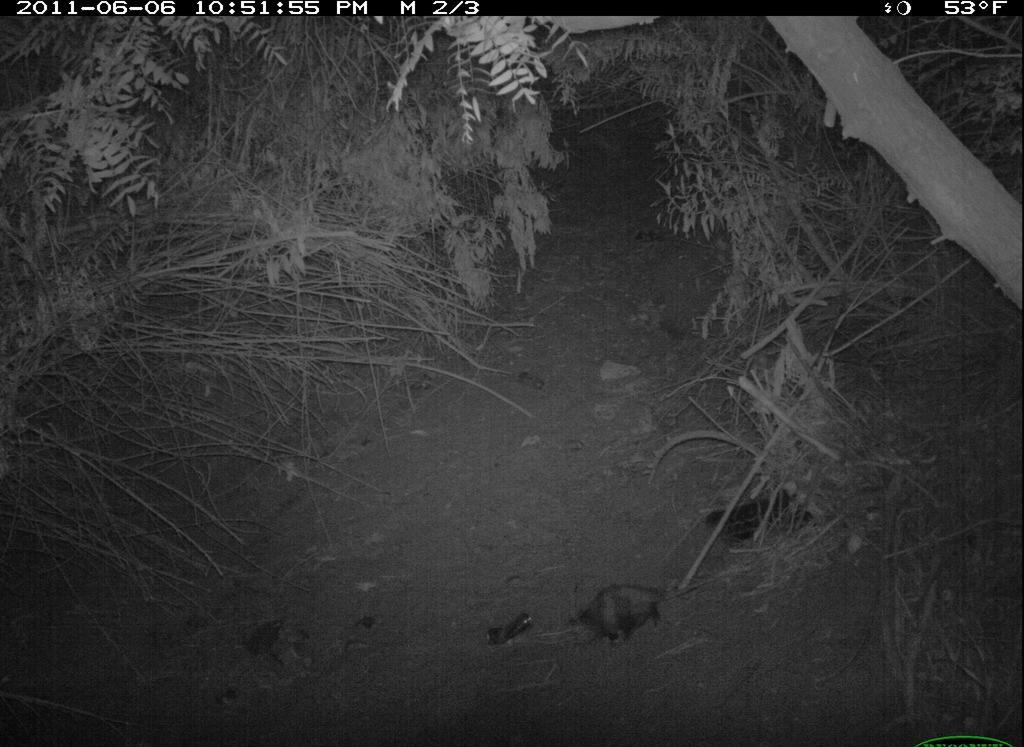opossum: (566, 578, 692, 675)
